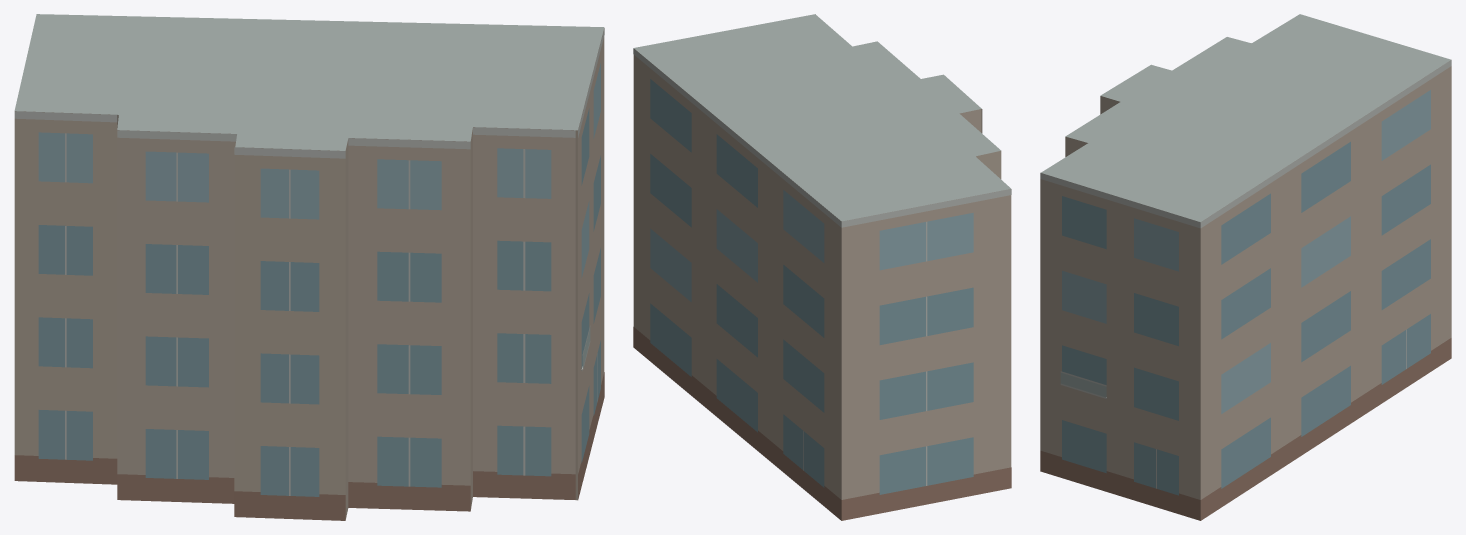
File: survey-upis-32848730.glb
3 views of the same model, side by side, from view 1: azimuth 30°, elevation 25°; view 2: azimuth 150°, elevation 25°; view 3: azimuth 270°, elevation 25° (orthographic). The views are drawn at different scales.
Parts seen in each view (by area): view 1: survey-upis-32848730.tmp; view 2: survey-upis-32848730.tmp; view 3: survey-upis-32848730.tmp.
Part boxes in pixels (left/top/right/bottom): survey-upis-32848730.tmp: left=14, top=14, right=604, bottom=520; survey-upis-32848730.tmp: left=633, top=14, right=1011, bottom=520; survey-upis-32848730.tmp: left=1040, top=14, right=1451, bottom=520.
Size of the model in its own units: 17.5 by 11.7 by 14.61.
